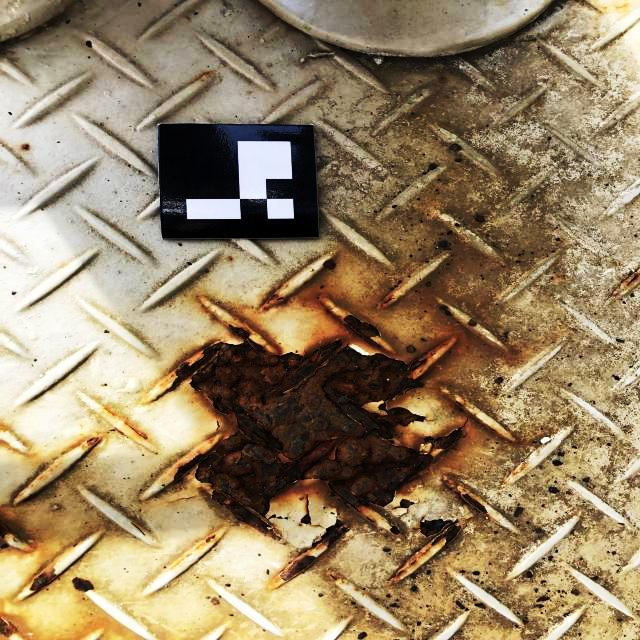Corrosion: (171, 323, 464, 589), (390, 514, 463, 586), (166, 529, 219, 573), (445, 485, 493, 518), (338, 309, 385, 341), (411, 343, 450, 378), (26, 562, 61, 599), (0, 511, 17, 557), (0, 608, 19, 640), (452, 398, 476, 423), (395, 494, 415, 511), (264, 293, 286, 306), (82, 434, 99, 449), (384, 295, 394, 306), (328, 572, 339, 582), (628, 274, 640, 283)
